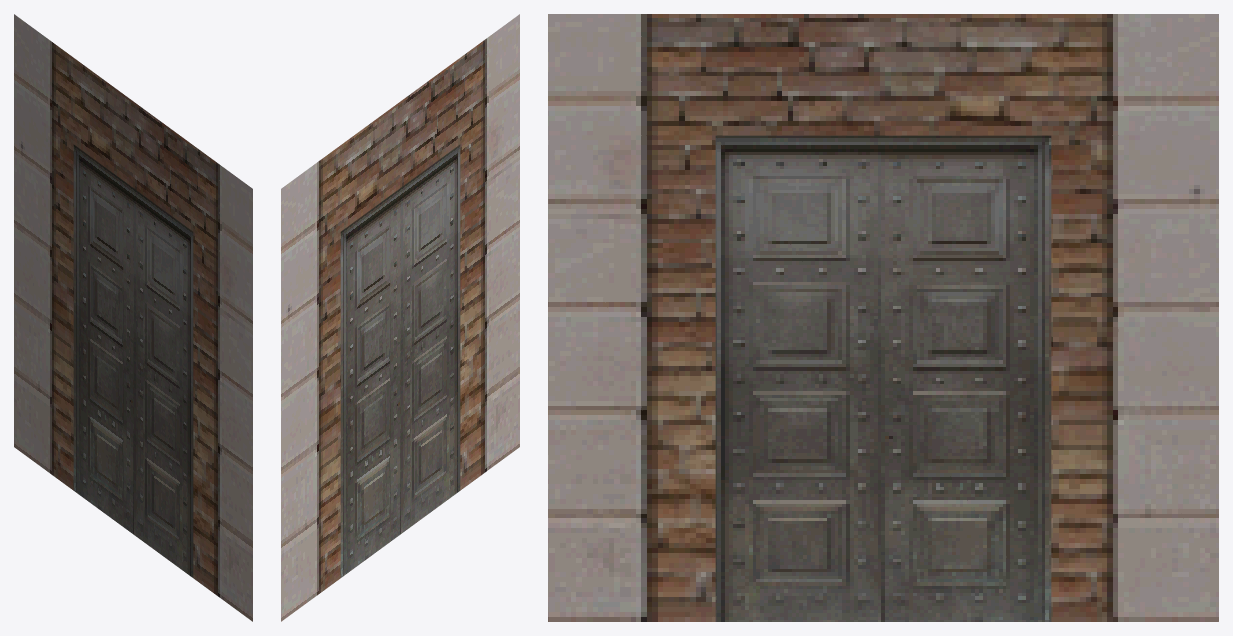
Rendered from fancy_brick_wall_metal_door.glb.
The picture shows the model from 3 angles, left to right: view 1: azimuth 30°, elevation 25°; view 2: azimuth 150°, elevation 25°; view 3: azimuth 270°, elevation 25°; orthographic projection. The views are drawn at different scales.
Visible parts, largest first — view 1: fancy_brick_wall_metal_door; view 2: fancy_brick_wall_metal_door; view 3: fancy_brick_wall_metal_door.
Part boxes in pixels (bbox=[...]): fancy_brick_wall_metal_door: bbox=[14, 14, 252, 621]; fancy_brick_wall_metal_door: bbox=[281, 14, 519, 621]; fancy_brick_wall_metal_door: bbox=[548, 14, 1218, 621].
Bounding box in the file's own units: 0 × 3 × 3.
1 material, 1 textured.
